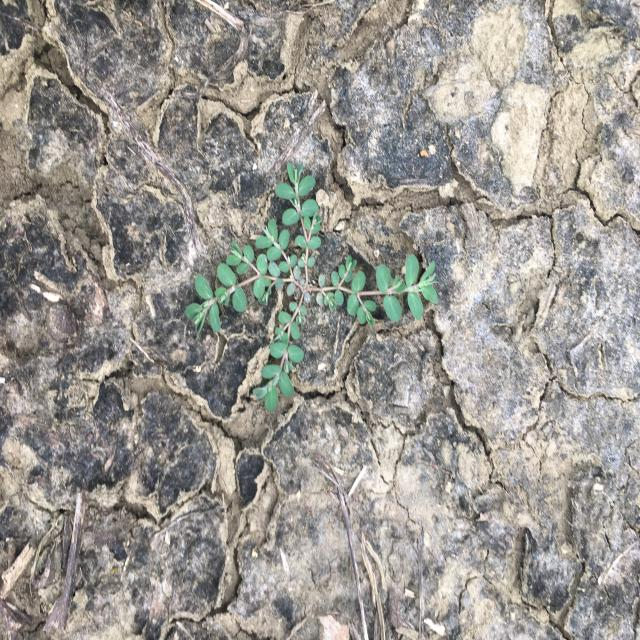SpottedSpurge: (184, 159, 440, 415)
